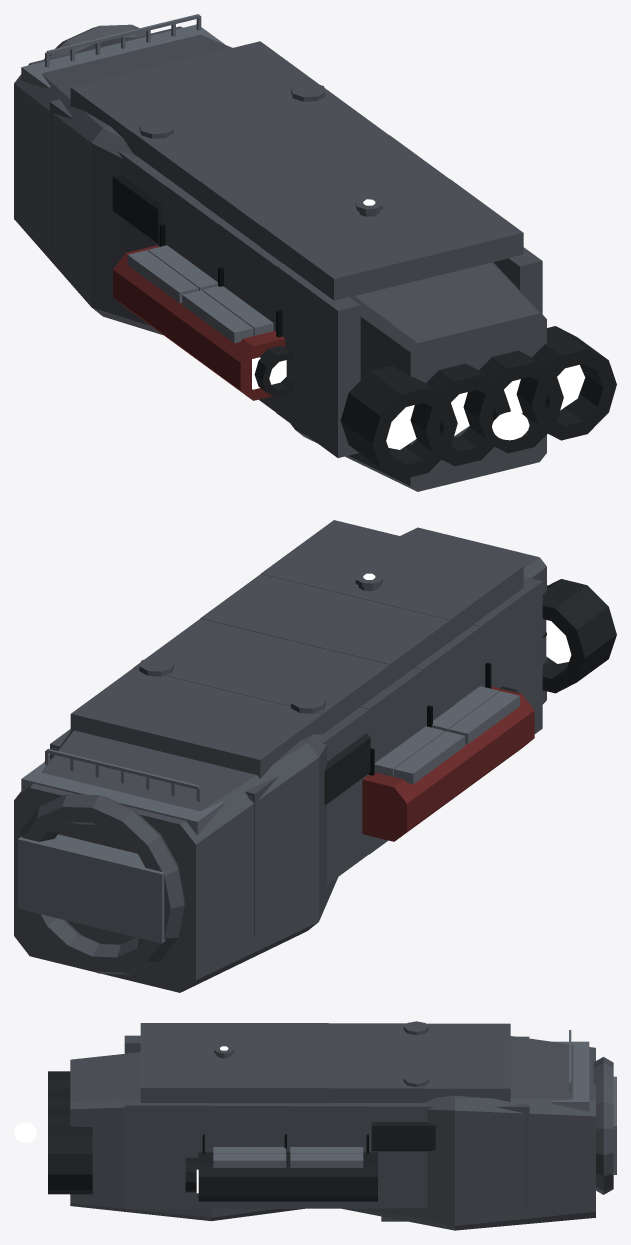
3 views of the same model, one above another, from view 1: azimuth 30°, elevation 25°; view 2: azimuth 150°, elevation 25°; view 3: azimuth 270°, elevation 25° (orthographic). The views are drawn at different scales.
Parts seen in each view (by area): view 1: RIMWARD_HULL, RIMWARD_EMISSIVE, RIMWARD_ENGINE_GLOW; view 2: RIMWARD_HULL, RIMWARD_EMISSIVE; view 3: RIMWARD_HULL, RIMWARD_ENGINE_GLOW.
Boxes of the visible parts, x1,y1,x2,y2 form: RIMWARD_HULL: (14,14,616,491); RIMWARD_EMISSIVE: (252,199,585,449); RIMWARD_ENGINE_GLOW: (492,411,529,440); RIMWARD_HULL: (14,520,616,992); RIMWARD_EMISSIVE: (363,573,571,663); RIMWARD_HULL: (48,1021,616,1230); RIMWARD_ENGINE_GLOW: (14,1122,36,1142).
Bounding box in the file's own units: 4.1 × 3.2 × 10.35.
